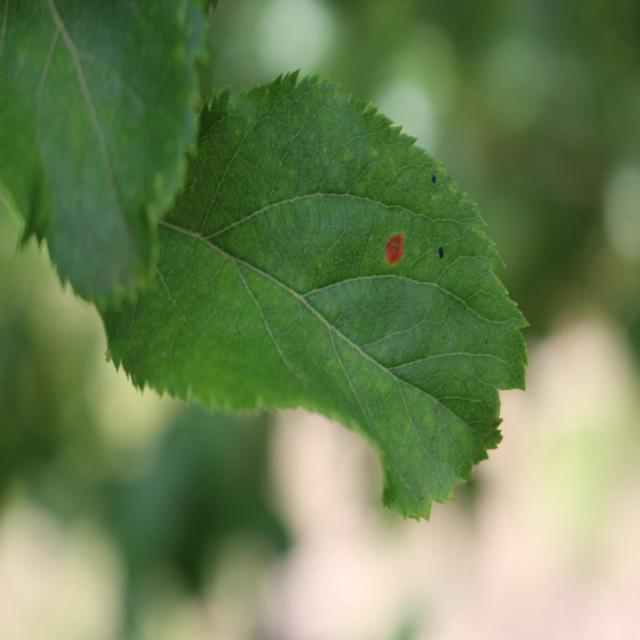Rust: (381, 216, 413, 289)
